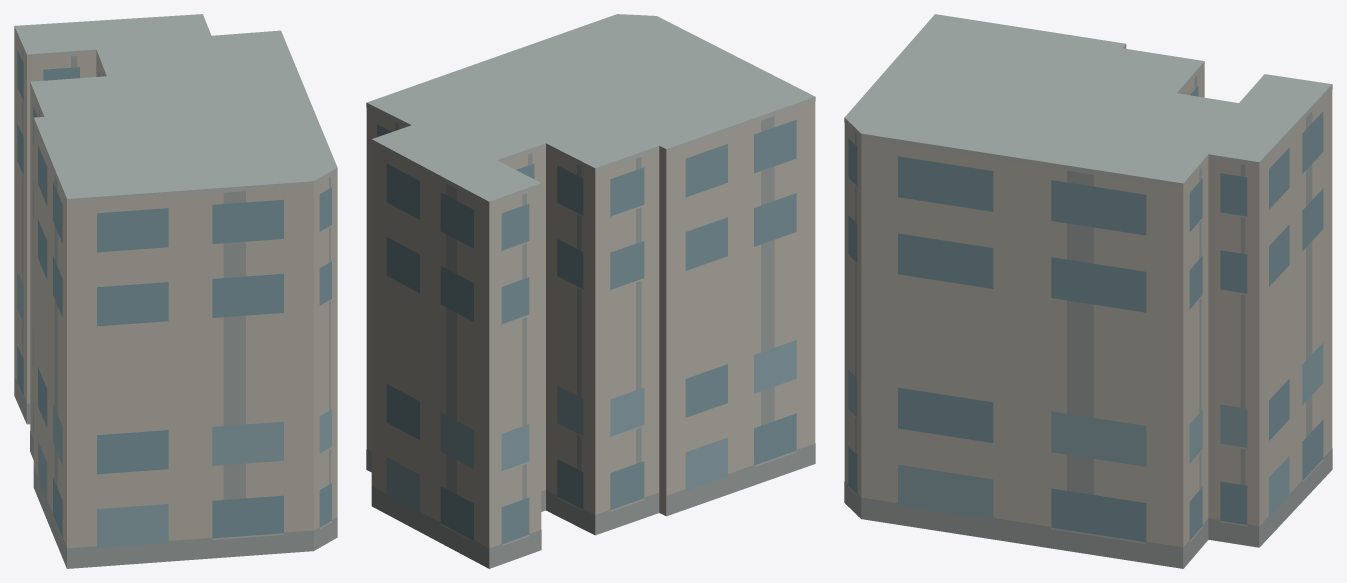
File: survey-upis-32552137.glb
The picture shows the model from 3 angles, left to right: view 1: azimuth 30°, elevation 25°; view 2: azimuth 150°, elevation 25°; view 3: azimuth 270°, elevation 25°; orthographic projection. The views are drawn at different scales.
Parts seen in each view (by area): view 1: survey-upis-32552137.tmp; view 2: survey-upis-32552137.tmp; view 3: survey-upis-32552137.tmp.
Boxes of the visible parts, x1,y1,x2,y2 form: survey-upis-32552137.tmp: [14, 14, 337, 568]; survey-upis-32552137.tmp: [366, 14, 815, 568]; survey-upis-32552137.tmp: [844, 14, 1332, 568].
Size of the model in its own units: 16.98 by 18 by 20.66.
